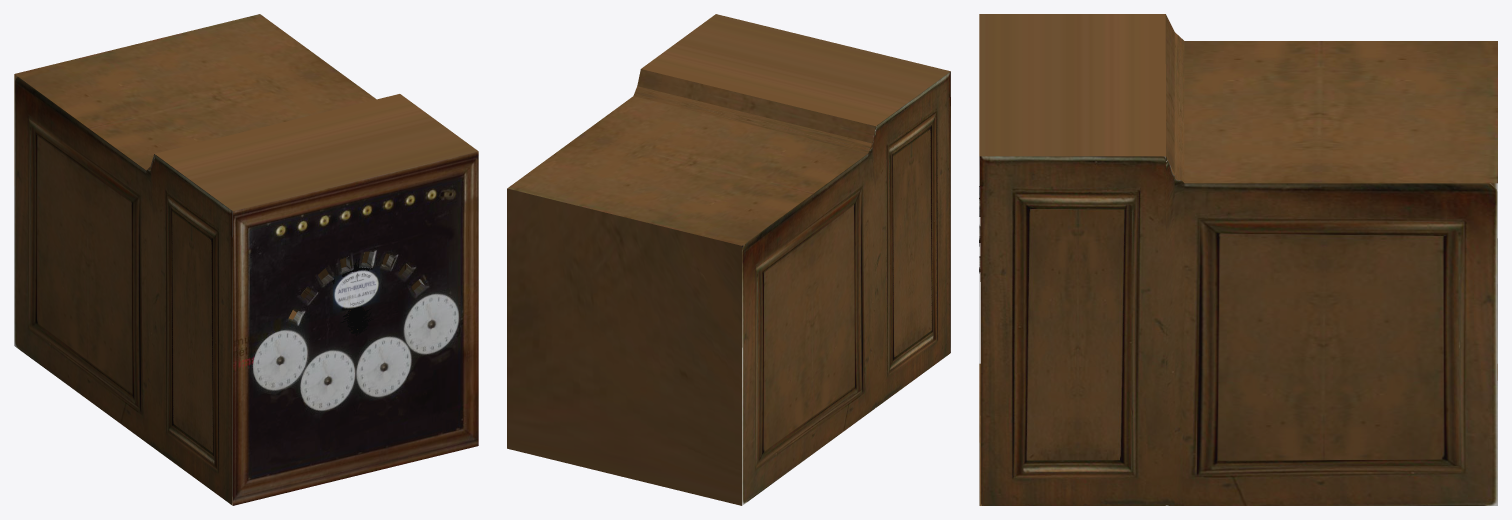
File: boitierTrou.dae
3 renders of one model, left to right at view 1: azimuth 30°, elevation 25°; view 2: azimuth 150°, elevation 25°; view 3: azimuth 270°, elevation 25°, orthographic. The views are drawn at different scales.
Visible parts, largest first — view 1: boitier; view 2: boitier; view 3: boitier.
Part boxes in pixels (left/top/right/bottom): boitier: left=14, top=14, right=478, bottom=505; boitier: left=507, top=14, right=950, bottom=505; boitier: left=979, top=14, right=1497, bottom=505.
Size of the model in its own units: 9.19 by 14.16 by 10.53.
Materials: 2 (2 with a texture image).
